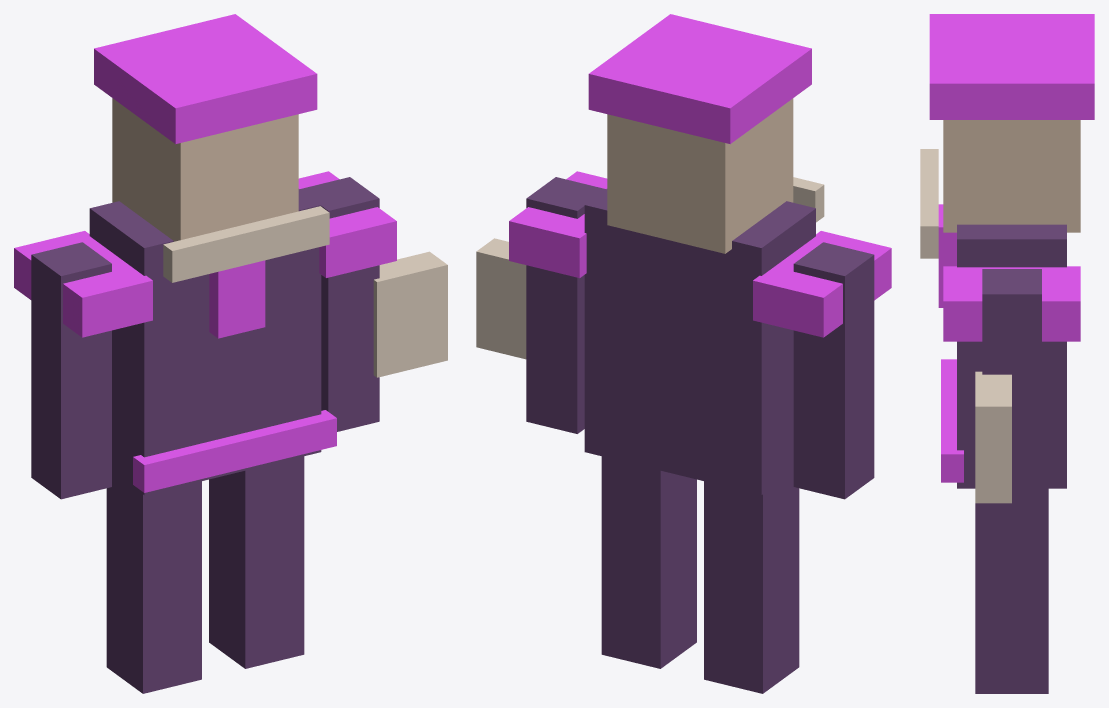
Rendered from 05_maven_signalborn_archivist_from_spire.glb.
The picture shows the model from 3 angles, left to right: view 1: azimuth 30°, elevation 25°; view 2: azimuth 150°, elevation 25°; view 3: azimuth 270°, elevation 25°; orthographic projection.
Visible parts, largest first — view 1: Maven Signalborn, Archivist from Spire; view 2: Maven Signalborn, Archivist from Spire; view 3: Maven Signalborn, Archivist from Spire.
Boxes of the visible parts, x1=… form: Maven Signalborn, Archivist from Spire: x1=14, y1=14, x2=447, y2=693; Maven Signalborn, Archivist from Spire: x1=476, y1=14, x2=891, y2=693; Maven Signalborn, Archivist from Spire: x1=920, y1=14, x2=1094, y2=693.
Bounding box in the file's own units: 0.9824 × 1.47 × 0.3829.
